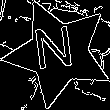N_S: (35, 25, 82, 81)
